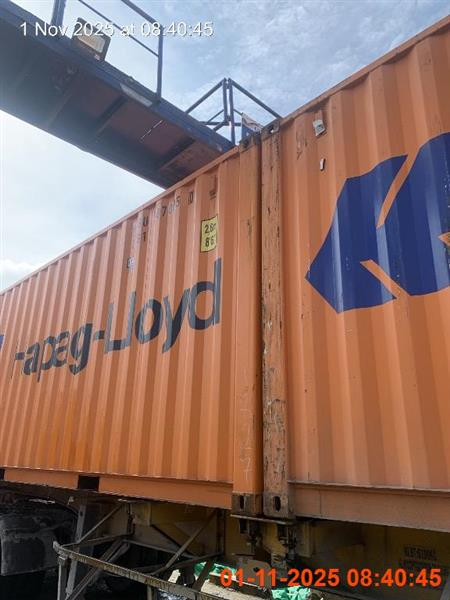broken: (0, 15, 448, 599)
